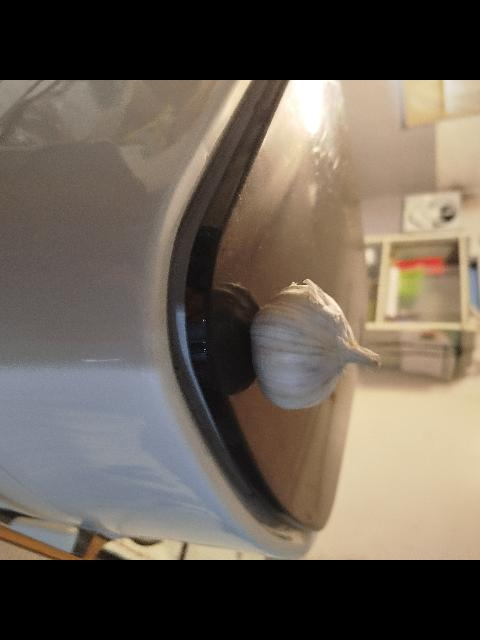garlic: (248, 278, 382, 410)
